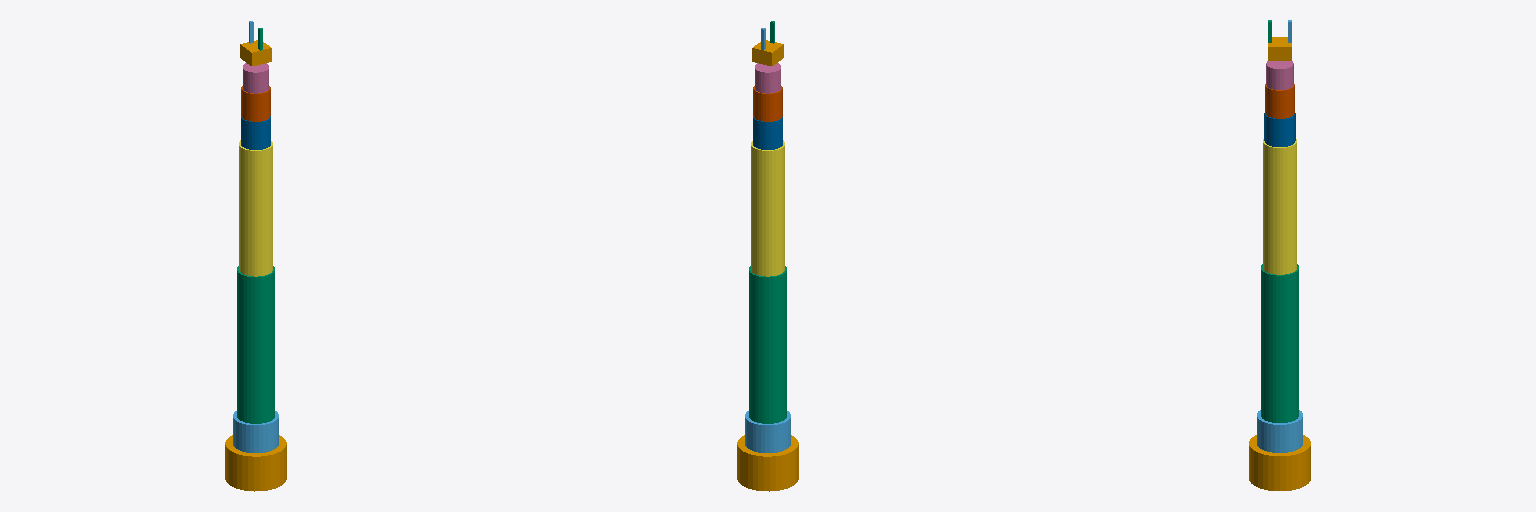
robot.urdf — six_axis_arm:
<?xml version="1.0"?>
<!--
  six_axis_arm.urdf
  合成测试夹具（synthesized fixture）：用户未提供真实机械臂 URDF，
  本文件仅用于驱动 srdf Skill 的生成与校验流程。
  拓扑：6 个旋转关节（肩偏航/肩俯仰/肘/腕1/腕2/腕3）+ 末端法兰 + 二指平动夹爪。
  几何/惯量为简化占位值，不可用于真实运动规划或动力学仿真。
  待确认：真实连杆尺寸、DH 参数、关节限位、碰撞模型、质量惯量。
-->
<robot name="six_axis_arm">

  <!-- ===================== 基座 ===================== -->
  <link name="base_link">
    <visual>
      <origin xyz="0 0 0.05" rpy="0 0 0"/>
      <geometry><cylinder radius="0.08" length="0.1"/></geometry>
    </visual>
    <collision>
      <origin xyz="0 0 0.05" rpy="0 0 0"/>
      <geometry><cylinder radius="0.08" length="0.1"/></geometry>
    </collision>
    <inertial>
      <mass value="5.0"/>
      <inertia ixx="0.01" ixy="0" ixz="0" iyy="0.01" iyz="0" izz="0.01"/>
    </inertial>
  </link>

  <!-- J1 肩偏航 -->
  <joint name="shoulder_pan_joint" type="revolute">
    <parent link="base_link"/>
    <child link="shoulder_link"/>
    <origin xyz="0 0 0.1" rpy="0 0 0"/>
    <axis xyz="0 0 1"/>
    <limit lower="-6.2832" upper="6.2832" effort="150" velocity="3.15"/>
  </joint>
  <link name="shoulder_link">
    <visual>
      <origin xyz="0 0 0.04" rpy="0 0 0"/>
      <geometry><cylinder radius="0.06" length="0.08"/></geometry>
    </visual>
    <collision>
      <origin xyz="0 0 0.04" rpy="0 0 0"/>
      <geometry><cylinder radius="0.06" length="0.08"/></geometry>
    </collision>
    <inertial>
      <mass value="2.0"/>
      <inertia ixx="0.005" ixy="0" ixz="0" iyy="0.005" iyz="0" izz="0.005"/>
    </inertial>
  </link>

  <!-- J2 肩俯仰 -->
  <joint name="shoulder_lift_joint" type="revolute">
    <parent link="shoulder_link"/>
    <child link="upper_arm_link"/>
    <origin xyz="0 0 0.08" rpy="0 0 0"/>
    <axis xyz="0 1 0"/>
    <limit lower="-6.2832" upper="6.2832" effort="150" velocity="3.15"/>
  </joint>
  <link name="upper_arm_link">
    <visual>
      <origin xyz="0 0 0.21" rpy="0 0 0"/>
      <geometry><cylinder radius="0.05" length="0.42"/></geometry>
    </visual>
    <collision>
      <origin xyz="0 0 0.21" rpy="0 0 0"/>
      <geometry><cylinder radius="0.05" length="0.42"/></geometry>
    </collision>
    <inertial>
      <mass value="3.0"/>
      <inertia ixx="0.02" ixy="0" ixz="0" iyy="0.02" iyz="0" izz="0.005"/>
    </inertial>
  </link>

  <!-- J3 肘 -->
  <joint name="elbow_joint" type="revolute">
    <parent link="upper_arm_link"/>
    <child link="forearm_link"/>
    <origin xyz="0 0 0.42" rpy="0 0 0"/>
    <axis xyz="0 1 0"/>
    <limit lower="-3.1416" upper="3.1416" effort="100" velocity="3.15"/>
  </joint>
  <link name="forearm_link">
    <visual>
      <origin xyz="0 0 0.18" rpy="0 0 0"/>
      <geometry><cylinder radius="0.045" length="0.36"/></geometry>
    </visual>
    <collision>
      <origin xyz="0 0 0.18" rpy="0 0 0"/>
      <geometry><cylinder radius="0.045" length="0.36"/></geometry>
    </collision>
    <inertial>
      <mass value="2.5"/>
      <inertia ixx="0.015" ixy="0" ixz="0" iyy="0.015" iyz="0" izz="0.004"/>
    </inertial>
  </link>

  <!-- J4 腕1 -->
  <joint name="wrist_1_joint" type="revolute">
    <parent link="forearm_link"/>
    <child link="wrist_1_link"/>
    <origin xyz="0 0 0.36" rpy="0 0 0"/>
    <axis xyz="0 1 0"/>
    <limit lower="-6.2832" upper="6.2832" effort="50" velocity="3.2"/>
  </joint>
  <link name="wrist_1_link">
    <visual>
      <origin xyz="0 0 0.04" rpy="0 0 0"/>
      <geometry><cylinder radius="0.04" length="0.08"/></geometry>
    </visual>
    <collision>
      <origin xyz="0 0 0.04" rpy="0 0 0"/>
      <geometry><cylinder radius="0.04" length="0.08"/></geometry>
    </collision>
    <inertial>
      <mass value="1.0"/>
      <inertia ixx="0.003" ixy="0" ixz="0" iyy="0.003" iyz="0" izz="0.003"/>
    </inertial>
  </link>

  <!-- J5 腕2 -->
  <joint name="wrist_2_joint" type="revolute">
    <parent link="wrist_1_link"/>
    <child link="wrist_2_link"/>
    <origin xyz="0 0 0.08" rpy="0 0 0"/>
    <axis xyz="0 0 1"/>
    <limit lower="-6.2832" upper="6.2832" effort="50" velocity="3.2"/>
  </joint>
  <link name="wrist_2_link">
    <visual>
      <origin xyz="0 0 0.04" rpy="0 0 0"/>
      <geometry><cylinder radius="0.038" length="0.08"/></geometry>
    </visual>
    <collision>
      <origin xyz="0 0 0.04" rpy="0 0 0"/>
      <geometry><cylinder radius="0.038" length="0.08"/></geometry>
    </collision>
    <inertial>
      <mass value="0.8"/>
      <inertia ixx="0.002" ixy="0" ixz="0" iyy="0.002" iyz="0" izz="0.002"/>
    </inertial>
  </link>

  <!-- J6 腕3 -->
  <joint name="wrist_3_joint" type="revolute">
    <parent link="wrist_2_link"/>
    <child link="wrist_3_link"/>
    <origin xyz="0 0 0.08" rpy="0 0 0"/>
    <axis xyz="0 1 0"/>
    <limit lower="-6.2832" upper="6.2832" effort="30" velocity="3.2"/>
  </joint>
  <link name="wrist_3_link">
    <visual>
      <origin xyz="0 0 0.03" rpy="0 0 0"/>
      <geometry><cylinder radius="0.035" length="0.06"/></geometry>
    </visual>
    <collision>
      <origin xyz="0 0 0.03" rpy="0 0 0"/>
      <geometry><cylinder radius="0.035" length="0.06"/></geometry>
    </collision>
    <inertial>
      <mass value="0.5"/>
      <inertia ixx="0.001" ixy="0" ixz="0" iyy="0.001" iyz="0" izz="0.001"/>
    </inertial>
  </link>

  <!-- 末端法兰（固定） -->
  <joint name="tool0_joint" type="fixed">
    <parent link="wrist_3_link"/>
    <child link="tool0"/>
    <origin xyz="0 0 0.06" rpy="0 0 0"/>
  </joint>
  <link name="tool0">
    <inertial>
      <mass value="0.1"/>
      <inertia ixx="0.0001" ixy="0" ixz="0" iyy="0.0001" iyz="0" izz="0.0001"/>
    </inertial>
  </link>

  <!-- ===================== 二指夹爪 ===================== -->
  <joint name="gripper_base_joint" type="fixed">
    <parent link="tool0"/>
    <child link="gripper_base_link"/>
    <origin xyz="0 0 0.02" rpy="0 0 0"/>
  </joint>
  <link name="gripper_base_link">
    <visual>
      <origin xyz="0 0 0.02" rpy="0 0 0"/>
      <geometry><box size="0.06 0.06 0.04"/></geometry>
    </visual>
    <collision>
      <origin xyz="0 0 0.02" rpy="0 0 0"/>
      <geometry><box size="0.06 0.06 0.04"/></geometry>
    </collision>
    <inertial>
      <mass value="0.3"/>
      <inertia ixx="0.0005" ixy="0" ixz="0" iyy="0.0005" iyz="0" izz="0.0005"/>
    </inertial>
  </link>

  <joint name="left_finger_joint" type="prismatic">
    <parent link="gripper_base_link"/>
    <child link="left_finger_link"/>
    <origin xyz="0 0.025 0.04" rpy="0 0 0"/>
    <axis xyz="0 1 0"/>
    <limit lower="0.0" upper="0.04" effort="20" velocity="0.1"/>
  </joint>
  <link name="left_finger_link">
    <visual>
      <origin xyz="0 0 0.03" rpy="0 0 0"/>
      <geometry><box size="0.01 0.01 0.06"/></geometry>
    </visual>
    <collision>
      <origin xyz="0 0 0.03" rpy="0 0 0"/>
      <geometry><box size="0.01 0.01 0.06"/></geometry>
    </collision>
    <inertial>
      <mass value="0.05"/>
      <inertia ixx="0.00005" ixy="0" ixz="0" iyy="0.00005" iyz="0" izz="0.00005"/>
    </inertial>
  </link>

  <joint name="right_finger_joint" type="prismatic">
    <parent link="gripper_base_link"/>
    <child link="right_finger_link"/>
    <origin xyz="0 -0.025 0.04" rpy="0 0 0"/>
    <axis xyz="0 -1 0"/>
    <limit lower="0.0" upper="0.04" effort="20" velocity="0.1"/>
  </joint>
  <link name="right_finger_link">
    <visual>
      <origin xyz="0 0 0.03" rpy="0 0 0"/>
      <geometry><box size="0.01 0.01 0.06"/></geometry>
    </visual>
    <collision>
      <origin xyz="0 0 0.03" rpy="0 0 0"/>
      <geometry><box size="0.01 0.01 0.06"/></geometry>
    </collision>
    <inertial>
      <mass value="0.05"/>
      <inertia ixx="0.00005" ixy="0" ixz="0" iyy="0.00005" iyz="0" izz="0.00005"/>
    </inertial>
  </link>

</robot>

--- Render facts (derived) ---
The picture shows the robot from 3 angles, left to right: view 1: azimuth 30°, elevation 25°; view 2: azimuth 150°, elevation 25°; view 3: azimuth 270°, elevation 25°; orthographic projection.
Robot: six_axis_arm — 11 links, 10 joints (6 revolute, 2 prismatic, 2 fixed); root link base_link; default pose: all joints at 0.
Visible links, largest first — view 1: upper_arm_link, forearm_link, base_link, shoulder_link, wrist_2_link, wrist_1_link, wrist_3_link, gripper_base_link; view 2: upper_arm_link, forearm_link, base_link, shoulder_link, wrist_2_link, wrist_1_link, wrist_3_link, gripper_base_link; view 3: upper_arm_link, forearm_link, base_link, shoulder_link, wrist_1_link, wrist_2_link, wrist_3_link, gripper_base_link.
Link boxes in pixels (x1,y1,x2,y2): upper_arm_link: [237, 266, 274, 423]; forearm_link: [239, 140, 272, 276]; base_link: [225, 435, 286, 491]; shoulder_link: [233, 411, 278, 452]; wrist_2_link: [241, 86, 270, 121]; wrist_1_link: [241, 116, 270, 149]; wrist_3_link: [243, 63, 268, 93]; gripper_base_link: [240, 40, 271, 65]; upper_arm_link: [749, 266, 786, 423]; forearm_link: [751, 140, 784, 276]; base_link: [737, 435, 798, 491]; shoulder_link: [745, 411, 790, 452]; wrist_2_link: [753, 86, 782, 121]; wrist_1_link: [753, 116, 782, 149]; wrist_3_link: [755, 63, 780, 93]; gripper_base_link: [752, 40, 783, 65]; upper_arm_link: [1261, 264, 1298, 422]; forearm_link: [1263, 139, 1296, 274]; base_link: [1249, 435, 1310, 490]; shoulder_link: [1257, 410, 1302, 452]; wrist_1_link: [1264, 113, 1295, 146]; wrist_2_link: [1265, 84, 1294, 118]; wrist_3_link: [1266, 61, 1293, 89]; gripper_base_link: [1268, 37, 1291, 60].
Size in the robot's own frame: 0.16 by 0.16 by 1.3 metres.
Geometry: primitives only (box / cylinder / sphere), no mesh files.
